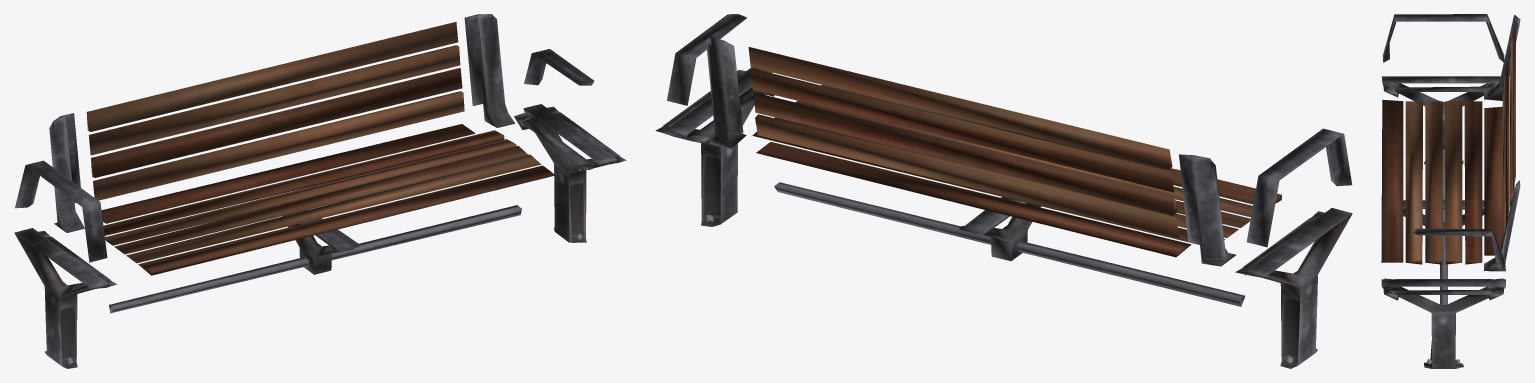
Rendered from bench_timber_lod1.glb.
3 renders of one model, left to right at view 1: azimuth 30°, elevation 25°; view 2: azimuth 150°, elevation 25°; view 3: azimuth 270°, elevation 25°, orthographic. The views are drawn at different scales.
Visible parts, largest first — view 1: bench_timber.001; view 2: bench_timber.001; view 3: bench_timber.001.
Part boxes in pixels (box(x1,y1,x2,y2)): bench_timber.001: box(14, 14, 626, 368); bench_timber.001: box(655, 14, 1352, 368); bench_timber.001: box(1381, 14, 1520, 368).
Size of the model in its own units: 2.45 by 0.8634 by 0.6711.
3 materials, 3 textured.
